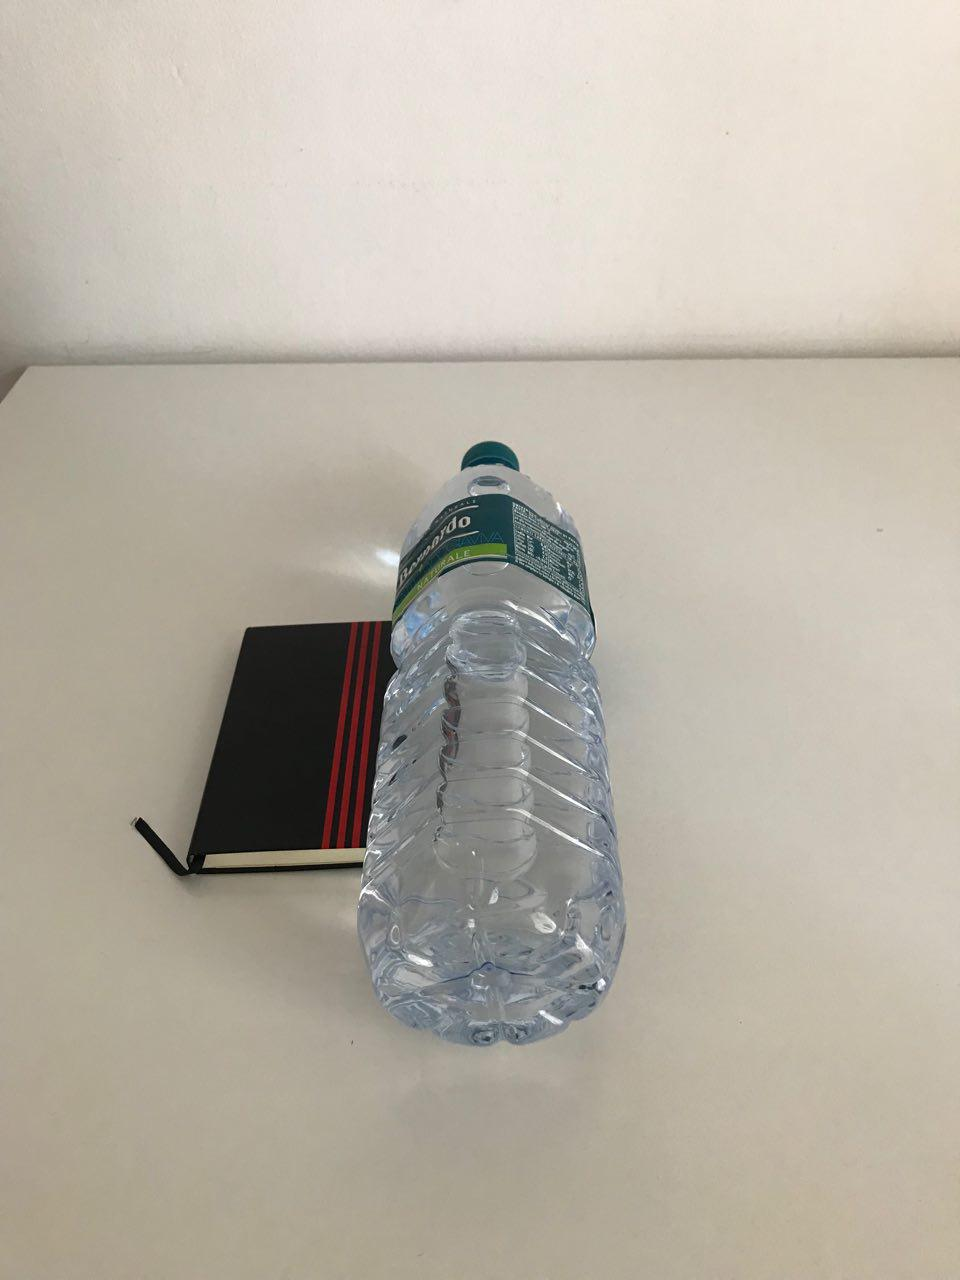san_bernardo: (356, 438, 629, 1048)
